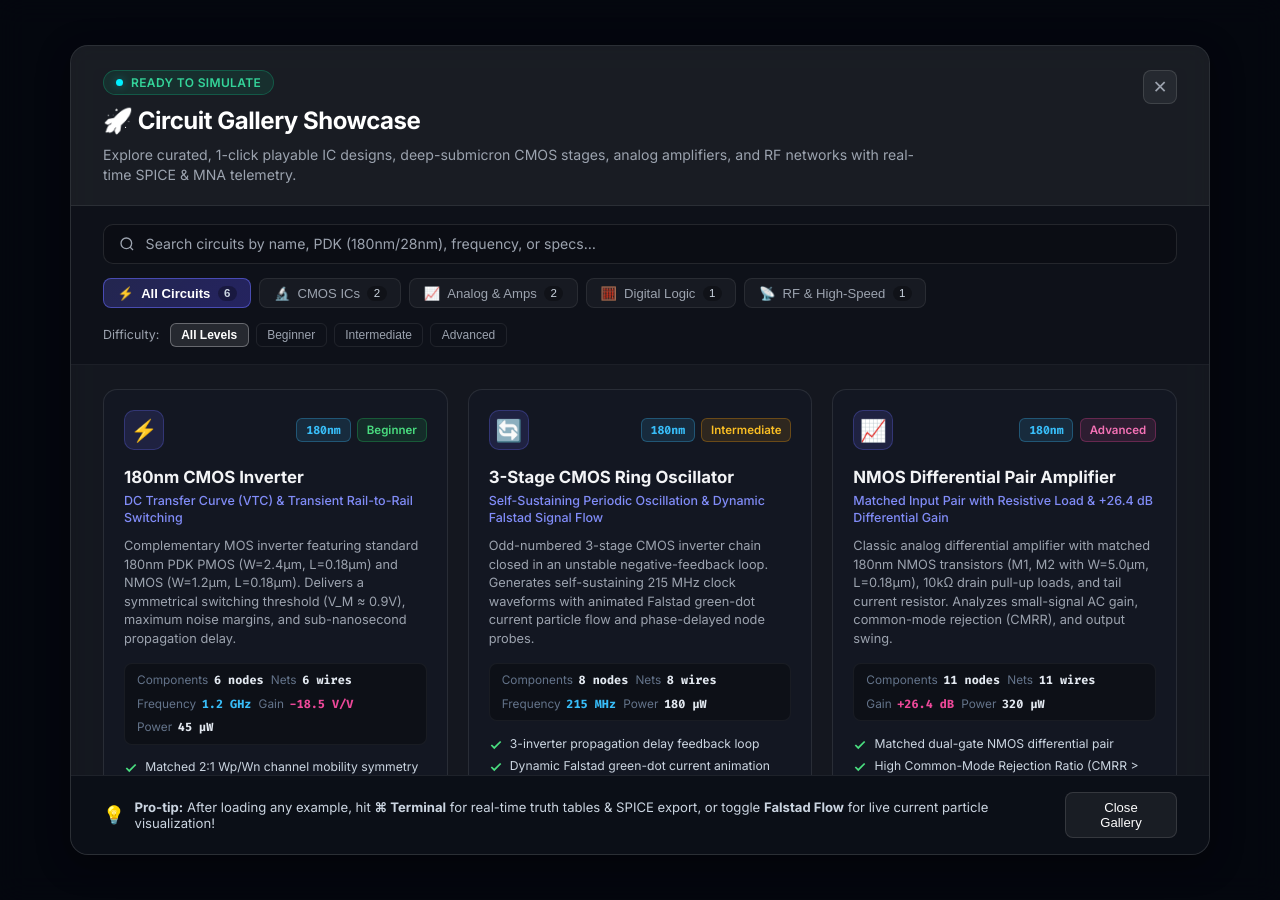
Test case: CircuitGalleryModal › filters circuits by difficulty pills
The width and height of the screenshot is (1280, 900).
What coordinates should you click on to do the following:
click the button "Beginner"
I would click on:
 (291, 334)
Its box is [256,322,327,346].
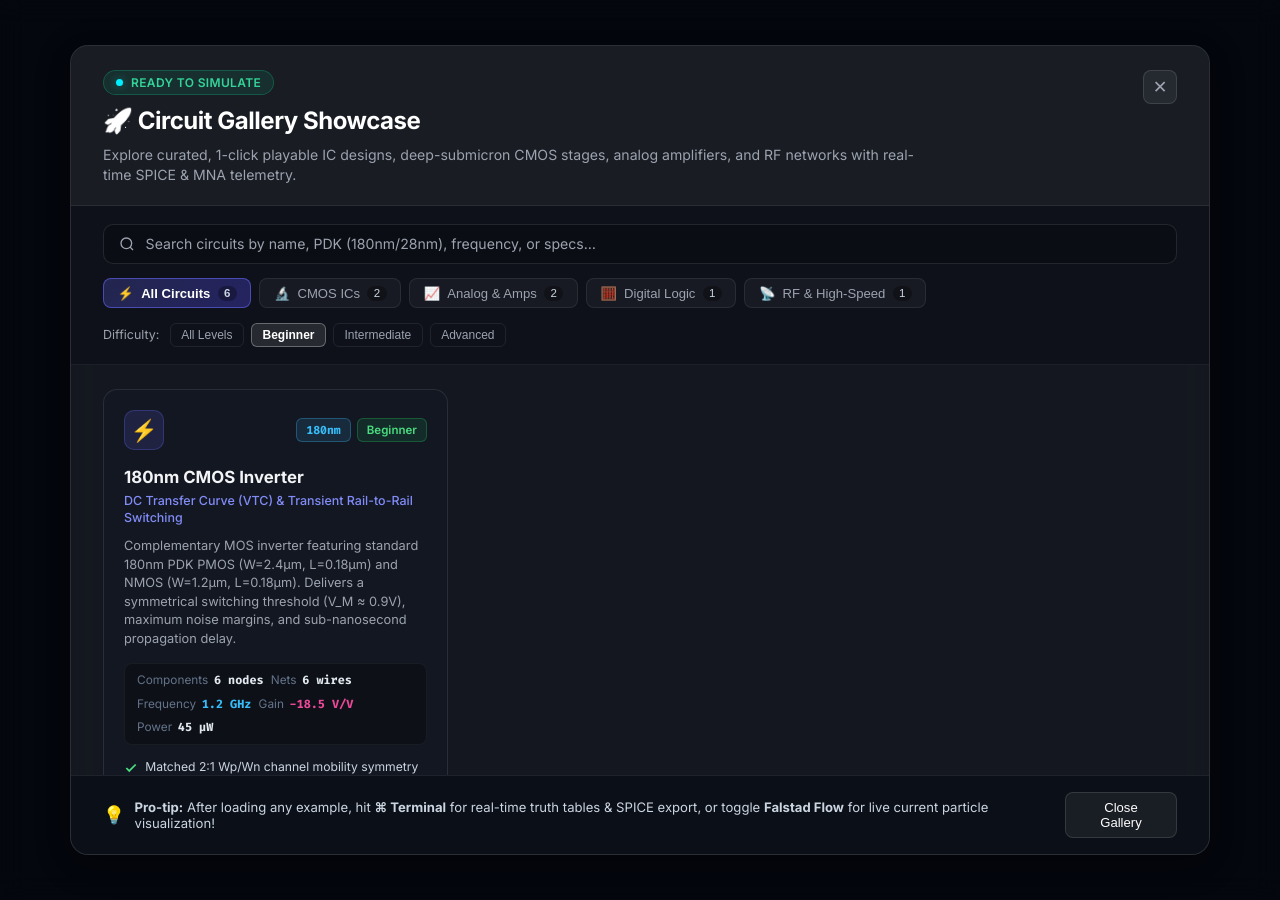
expect the heading "180nm CMOS Inverter" is shown: met, box [124,466,304,486]
expect the heading "NMOS Differential Pair Amplifier" is gone: met
